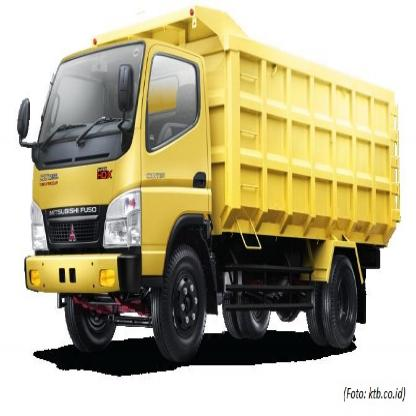truck: (19, 8, 402, 356)
